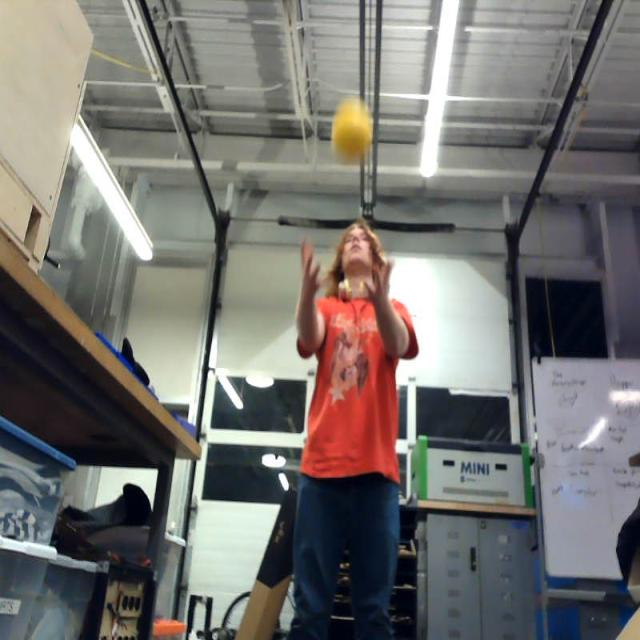Fuel: (333, 109, 369, 156)
